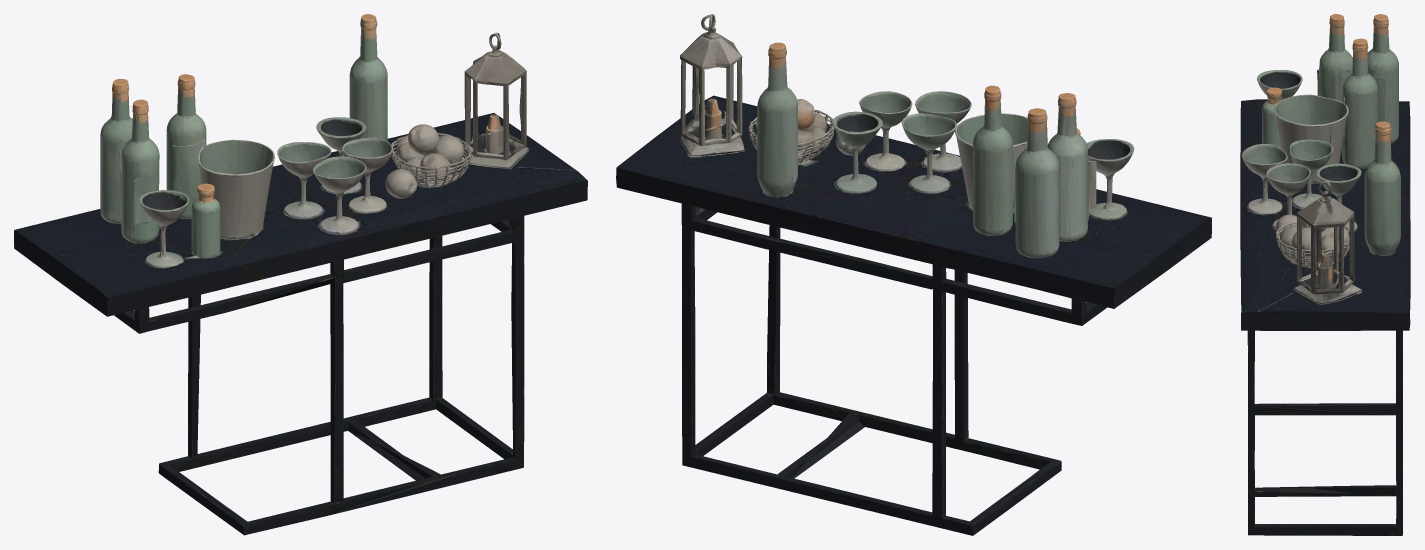
Rendered from terracoDrinks.glb.
3 views of the same model, side by side, from view 1: azimuth 30°, elevation 25°; view 2: azimuth 150°, elevation 25°; view 3: azimuth 270°, elevation 25° (orthographic). The views are drawn at different scales.
Bounding box in the file's own units: 1.9 × 1.57 × 0.645.
Materials: 1 (1 with a texture image).
